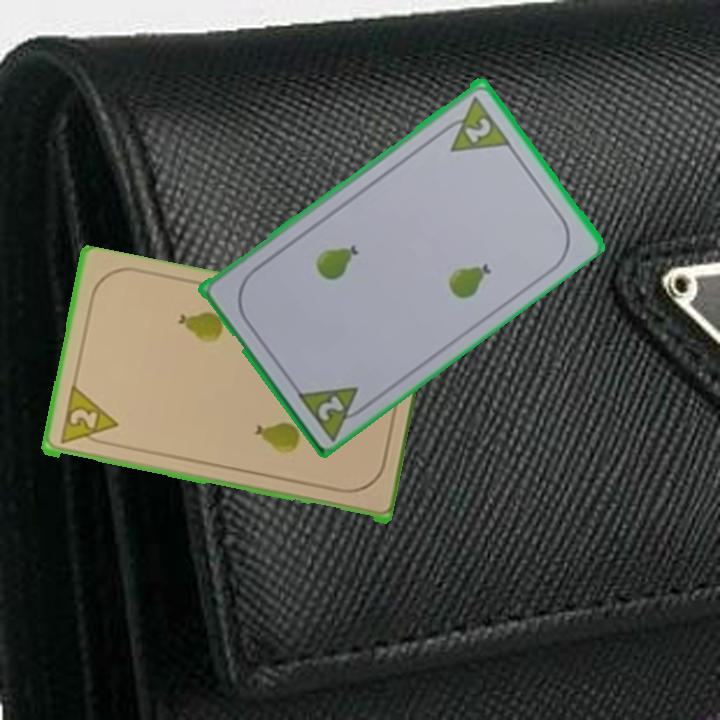2p: (434, 91, 513, 155), (292, 382, 373, 442), (56, 385, 120, 448)
